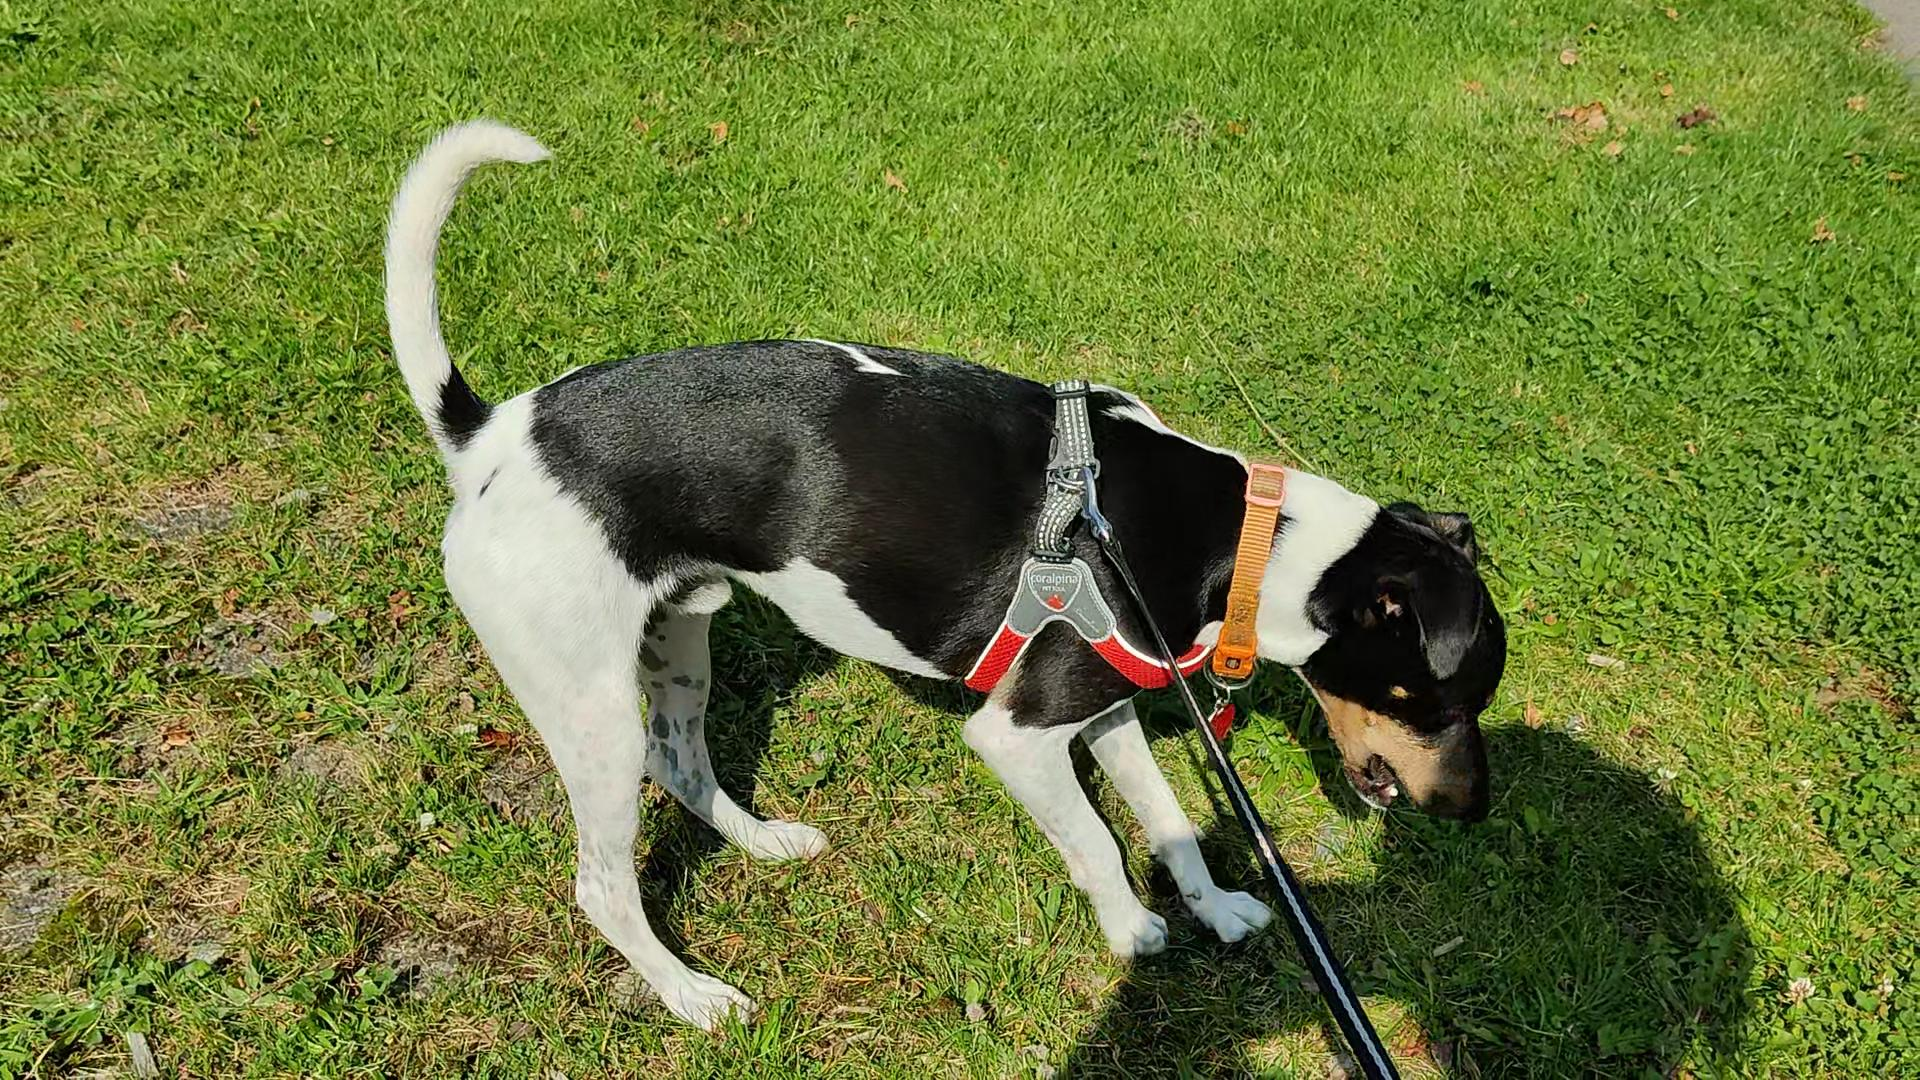Dog: (363, 105, 1509, 1033)
